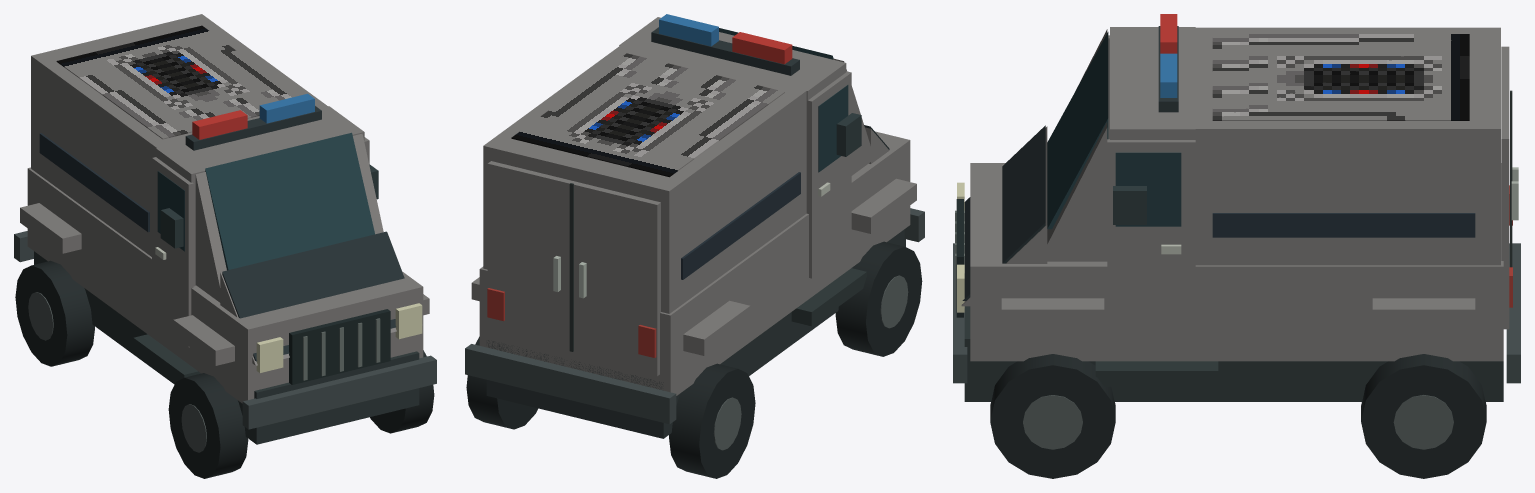
File: CMU3DReduxAU14VehicleCivCopMonoSupron.glb
3 views of the same model, side by side, from view 1: azimuth 30°, elevation 25°; view 2: azimuth 150°, elevation 25°; view 3: azimuth 270°, elevation 25° (orthographic). The views are drawn at different scales.
Parts seen in each view (by area): view 1: lower vehicle body, enclosed rear body, windshield, source roof livery, rubber road tire (×3), black police hood, bumper (×2), sealed chassis, cab bulkhead, cab door skin, front grille, sloping cab frame (+11 smaller); view 2: rear double doors, enclosed rear body, lower vehicle body, source roof livery, rubber road tire (×3), bumper (×2), sealed chassis, cab door skin, wheel fender (×2), cab bulkhead, side livery stripe, recessed metal wheel hub (×2) (+9 smaller); view 3: enclosed rear body, lower vehicle body, source roof livery, rubber road tire (×2), cab door skin, sealed chassis, cab bulkhead, side livery stripe, wheel fender (×2), windshield, sloping cab frame, recessed metal wheel hub (×2) (+11 smaller).
Boxes of the visible parts, box(x1,y1,x2,y2) form: lower vehicle body: box(27, 167, 423, 403); enclosed rear body: box(31, 14, 333, 256); windshield: box(205, 132, 374, 270); source roof livery: box(56, 25, 297, 139); rubber road tire (×3): box(15, 260, 434, 478); black police hood: box(222, 231, 404, 361); bumper (×2): box(14, 231, 436, 429); sealed chassis: box(34, 251, 419, 444); cab bulkhead: box(156, 106, 364, 286); cab door skin: box(152, 157, 193, 347); front grille: box(289, 309, 390, 384); sloping cab frame: box(195, 133, 383, 304); rear double doors: box(487, 161, 660, 376); enclosed rear body: box(483, 41, 812, 313); lower vehicle body: box(479, 131, 910, 395); source roof livery: box(511, 53, 784, 177); rubber road tire (×3): box(466, 241, 922, 478); bumper (×2): box(465, 208, 924, 424); sealed chassis: box(486, 229, 905, 438); cab door skin: box(806, 71, 851, 278); wheel fender (×2): box(683, 178, 916, 355); cab bulkhead: box(619, 17, 846, 213); side livery stripe: box(681, 172, 800, 279); recessed metal wheel hub (×2): box(713, 275, 908, 450); enclosed rear body: box(1181, 27, 1500, 265); lower vehicle body: box(970, 163, 1503, 361); source roof livery: box(1212, 34, 1469, 120); rubber road tire (×2): box(990, 354, 1486, 478); cab door skin: box(1107, 139, 1195, 339); sealed chassis: box(964, 306, 1503, 401); cab bulkhead: box(1110, 27, 1195, 139); side livery stripe: box(1212, 213, 1475, 237); wheel fender (×2): box(1001, 298, 1475, 327); windshield: box(1047, 32, 1108, 229); sloping cab frame: box(1047, 29, 1107, 261); recessed metal wheel hub (×2): box(1023, 395, 1453, 449).
Bounding box in the file's own units: 1.04 × 1.4 × 1.96.
Materials: 23 (1 with a texture image).
